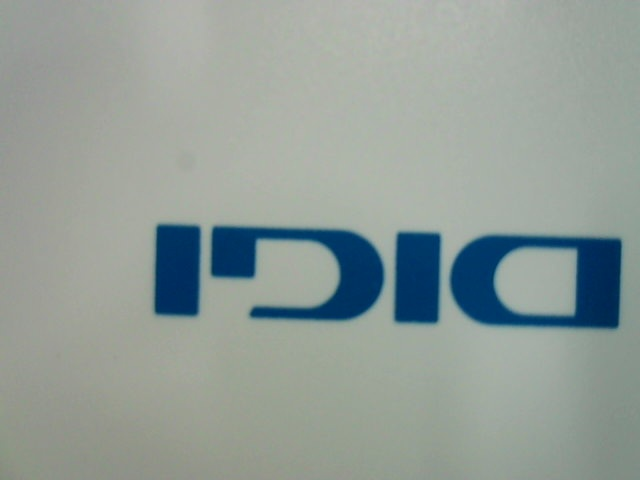BL_DIGI: (128, 192, 628, 336)
